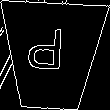P_S: (32, 30, 73, 82)
